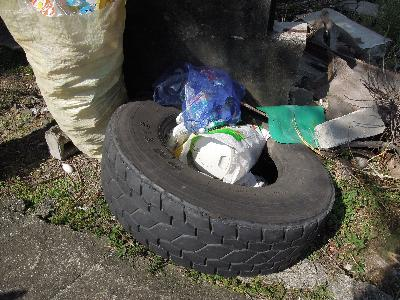plastic_bag: (1, 1, 128, 160), (182, 61, 246, 134)
tire: (100, 98, 338, 276)
